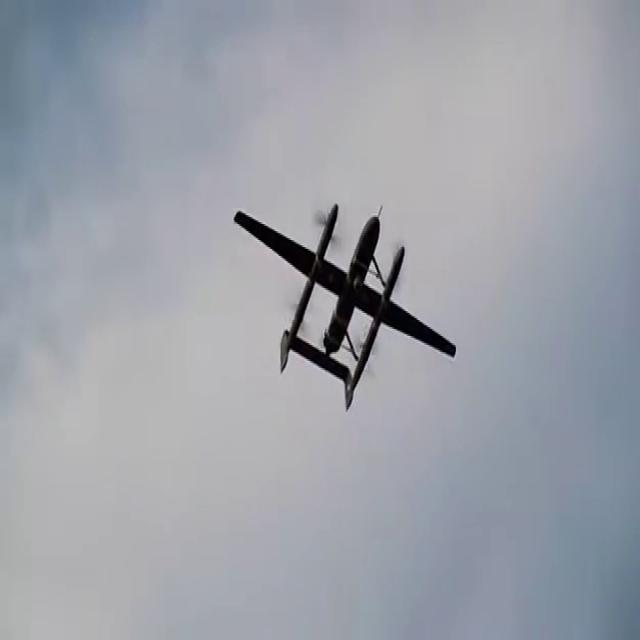iha: (235, 210, 457, 405)
